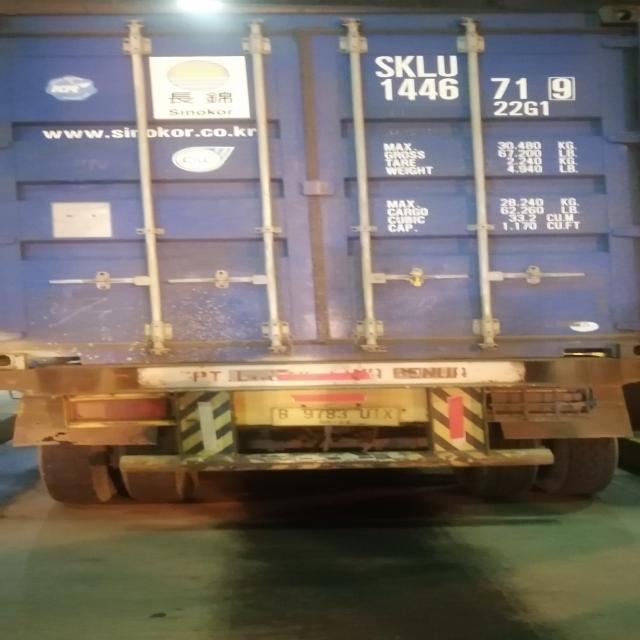seal: (409, 272, 424, 287)
